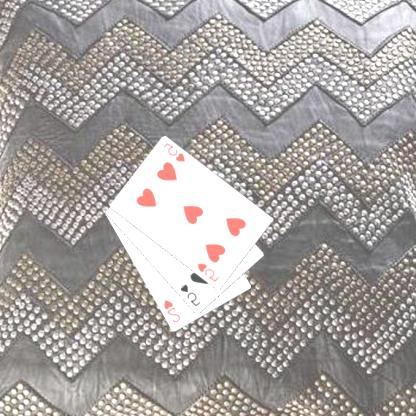2H: (162, 297, 184, 324)
5H: (196, 260, 222, 284), (162, 140, 188, 164)
5S: (179, 282, 204, 308)
